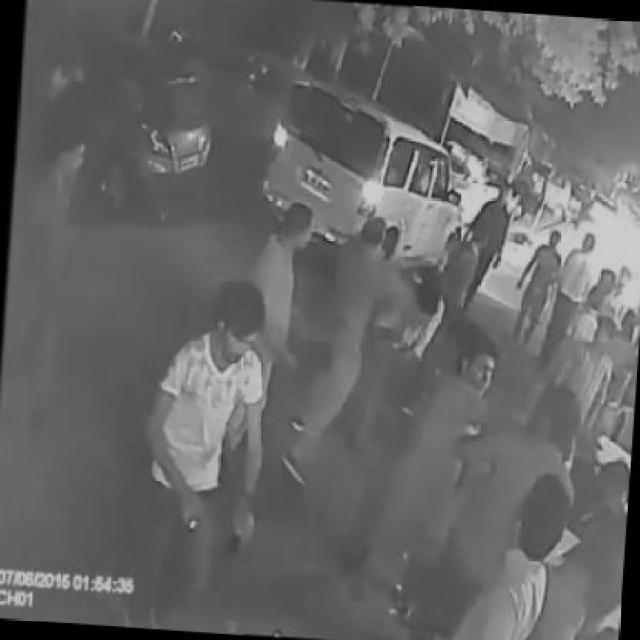fight: (343, 333, 577, 604), (274, 194, 441, 484)
